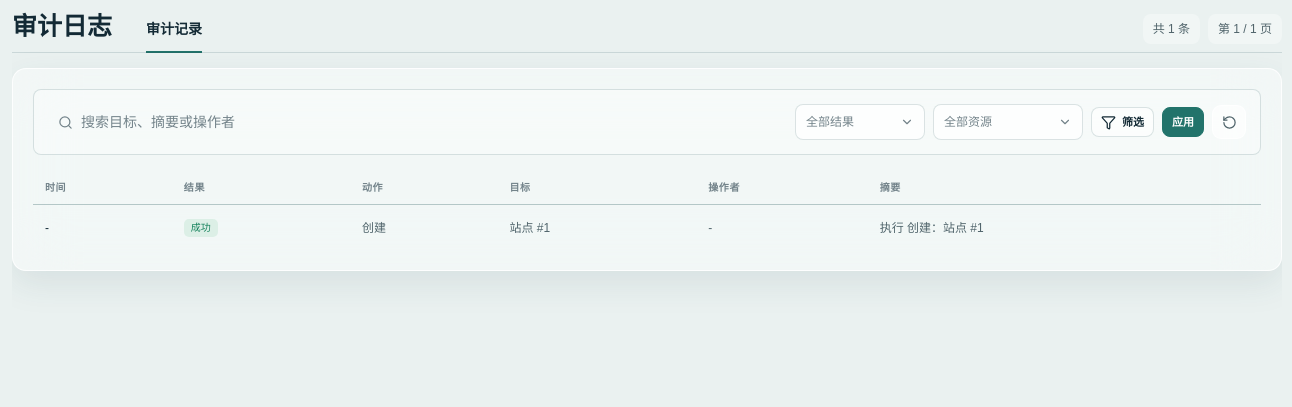
it: AuditLogs › retains the last successful page when a later filter read fails
In the field with class "audit-search": (429, 122) [81,104,777,140], type "missing"
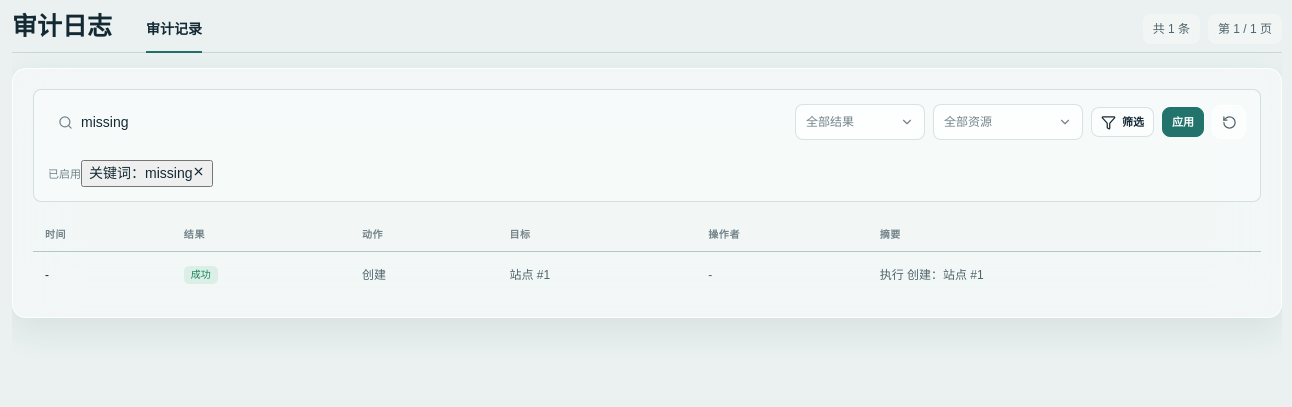
Click the button with test id "audit-apply-filters": click(1183, 122) [1162,107,1204,137]
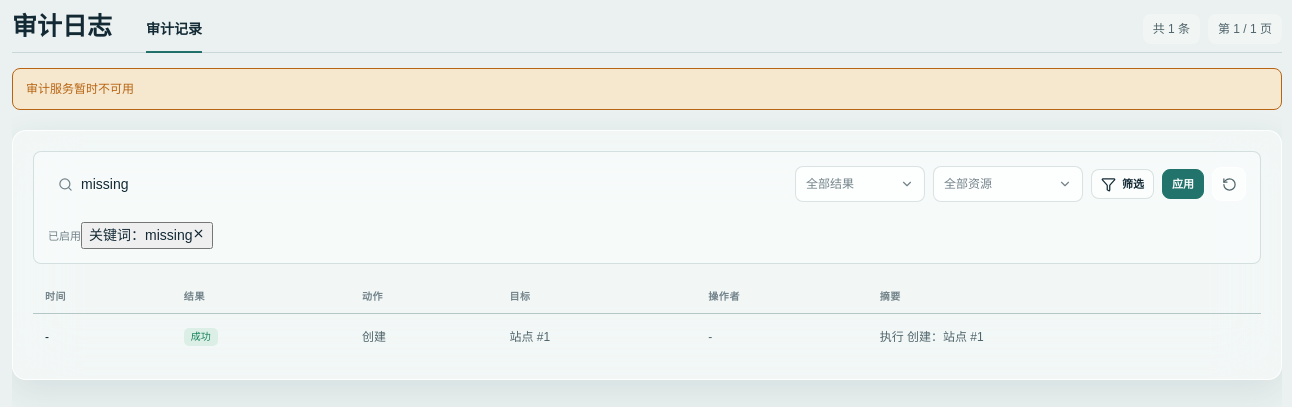
Check: the text "执行 创建：站点 #1" is shown, box [868,314,1261,359]
Check: the text "审计服务暂时不可用" is shown, box [26,80,134,98]
